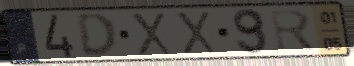4: (43, 13, 77, 60)
9: (230, 7, 271, 57)
D: (74, 11, 120, 59)
R: (268, 7, 318, 54)
X: (128, 11, 175, 57), (173, 10, 219, 56)
